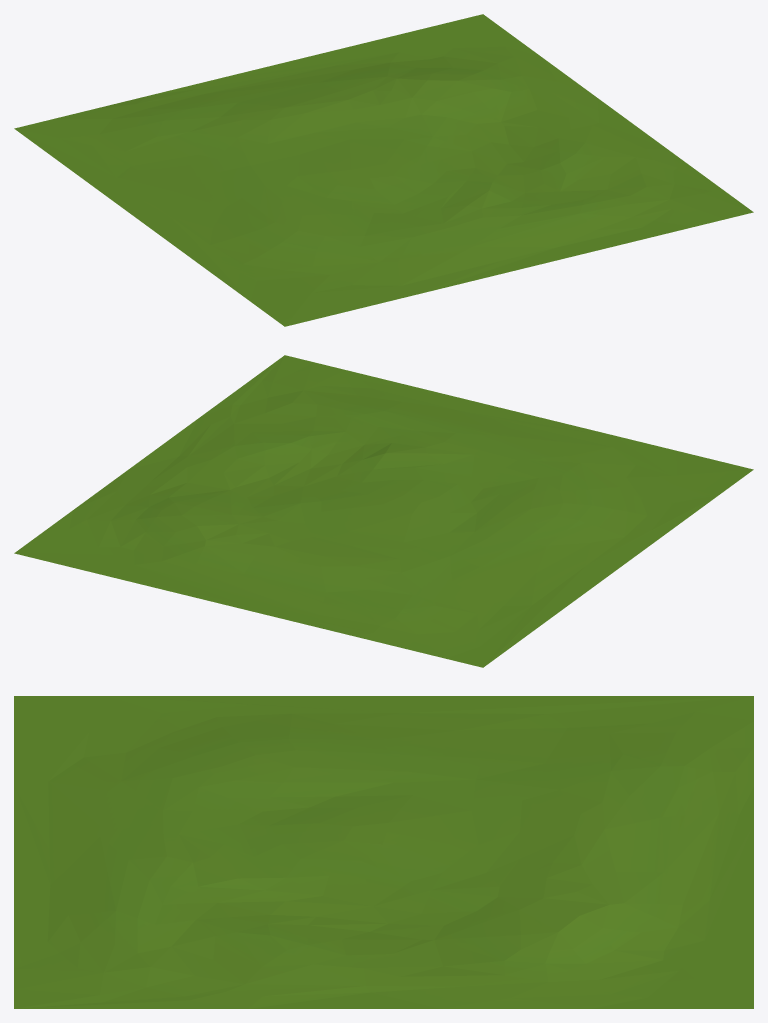
Rendered from Terrain_03.fbx.
3 views of the same model, one above another, from view 1: azimuth 30°, elevation 25°; view 2: azimuth 150°, elevation 25°; view 3: azimuth 270°, elevation 25° (orthographic). The views are drawn at different scales.
Parts seen in each view (by area): view 1: Terrain_03; view 2: Terrain_03; view 3: Terrain_03.
Part boxes in pixels (bbox=[...]): Terrain_03: bbox=[14, 14, 753, 326]; Terrain_03: bbox=[14, 355, 753, 667]; Terrain_03: bbox=[14, 696, 753, 1008].
Bounding box in the file's own units: 12800 × 257 × 12800.
